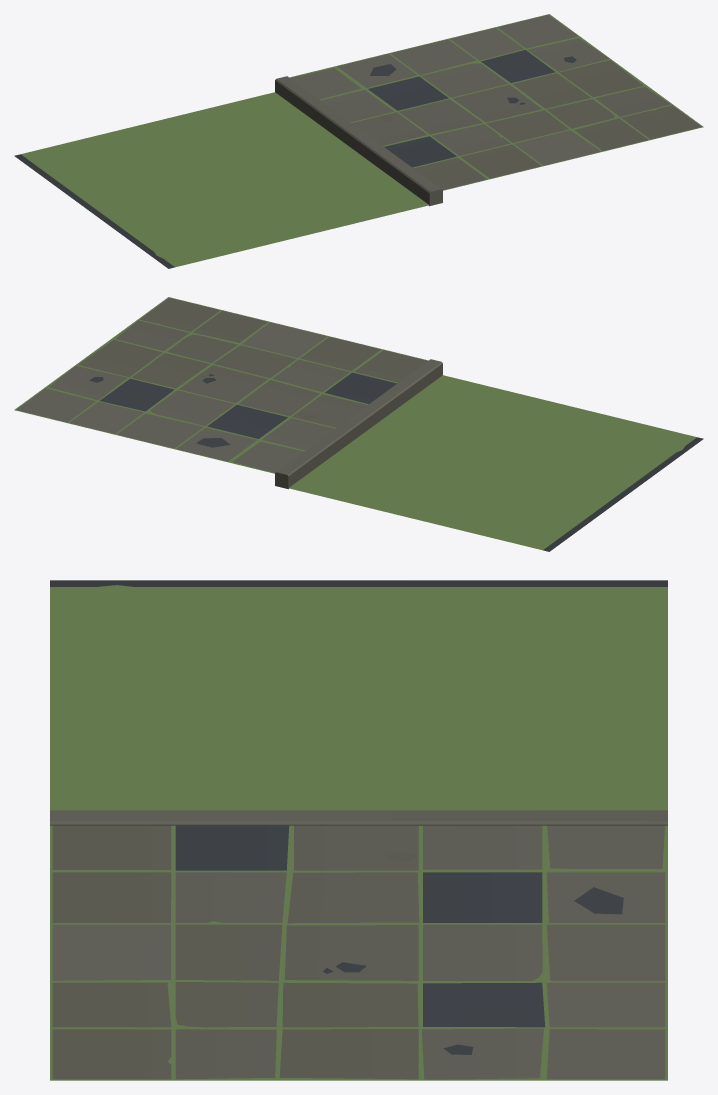
Rendered from Road_16.fbx.
The picture shows the model from 3 angles, top to bottom: view 1: azimuth 30°, elevation 25°; view 2: azimuth 150°, elevation 25°; view 3: azimuth 270°, elevation 25°; orthographic projection. The views are drawn at different scales.
Parts seen in each view (by area): view 1: Road_16; view 2: Road_16; view 3: Road_16.
Part boxes in pixels (bbox=[...]): Road_16: bbox=[14, 14, 703, 268]; Road_16: bbox=[14, 297, 703, 551]; Road_16: bbox=[50, 580, 667, 1080].
Size of the model in its own units: 6 by 0.15 by 3.
